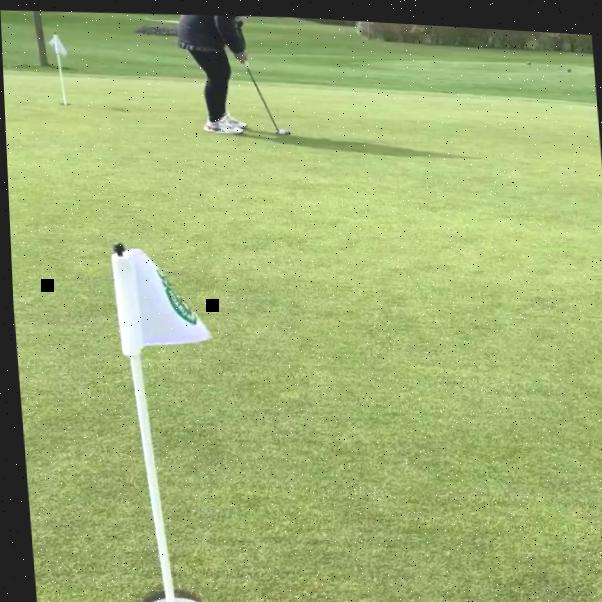ClubHead: (275, 127, 290, 132)
GolfBall: (278, 126, 285, 131)
